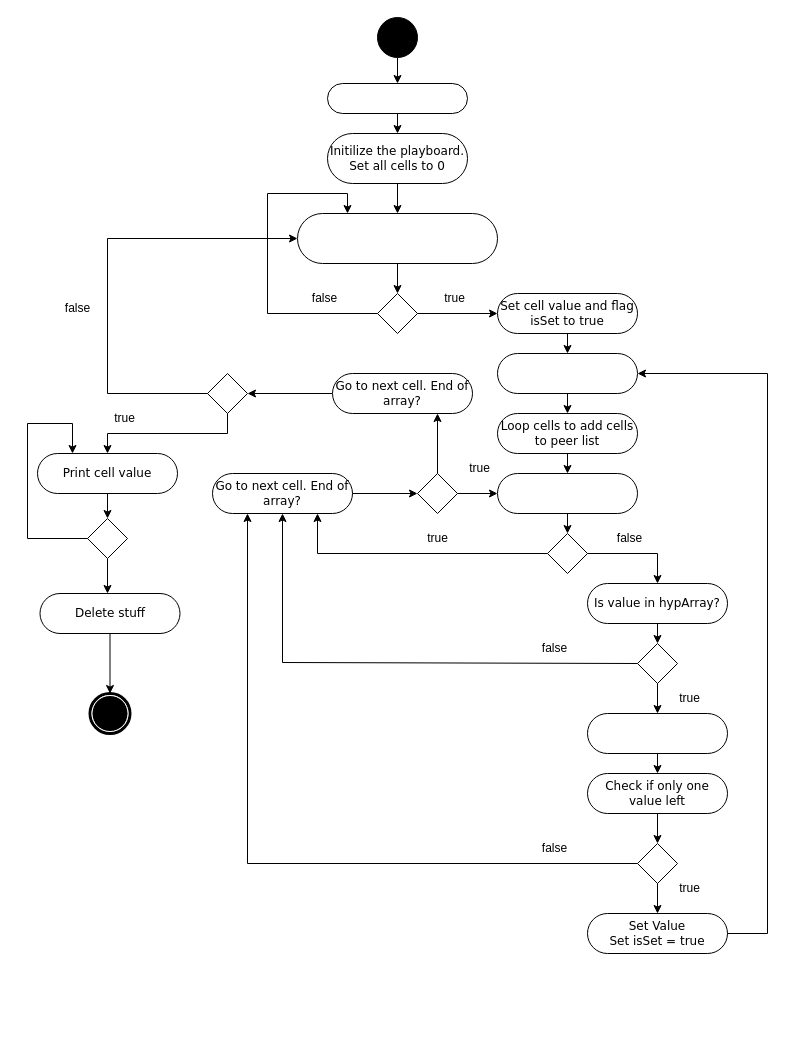
This 793x1041 diagram has some shape labels left out. Here are the shapes that lost their labels. From the top down, the centre of each, then its label:
At point (397, 98): "Import sudoku".
At point (397, 238): "Parse value from sudoku input to cell object. Value from sudoku input?".
At point (567, 373): "Send cell to peer func".
At point (567, 493): "Check peer list cell, isSet == true".
At point (657, 733): "Remove value from hypArray".
